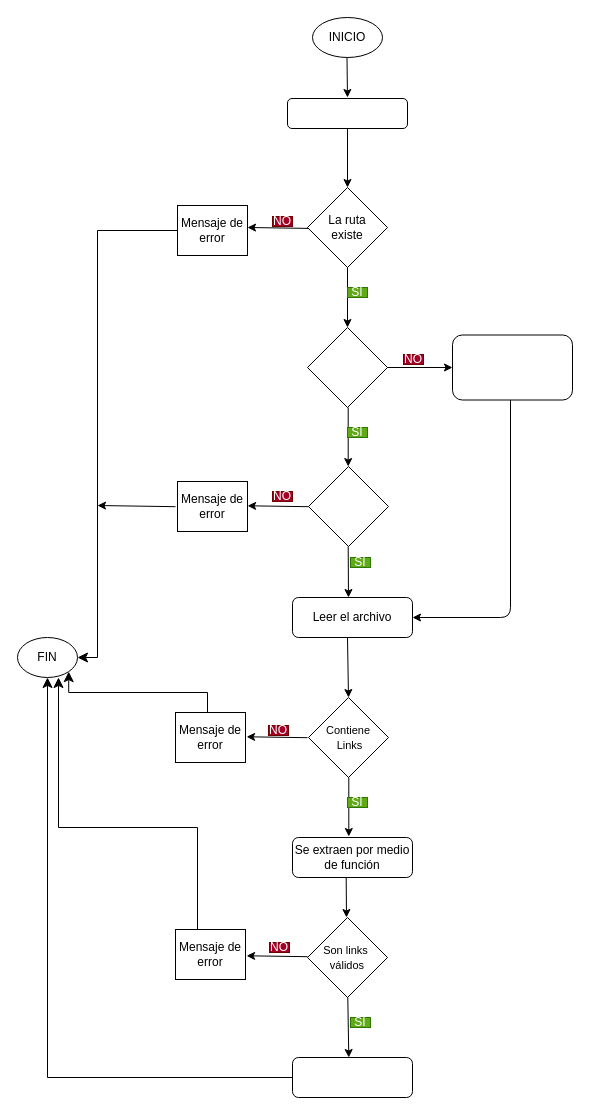
This 590x1115 diagram has some shape labels left out. Here are the shapes that lost their labels. From the top down, the centre of each, then its label:
At pixel 347 113: "Ingresa una ruta".
At pixel 347 367: "Es un archivo absoluto".
At pixel 512 367: "Cambiarlo a archivo absoluto".
At pixel 348 506: "El archivo es tipo MD".
At pixel 352 1077: "Mostrar contenido y cantidades".
